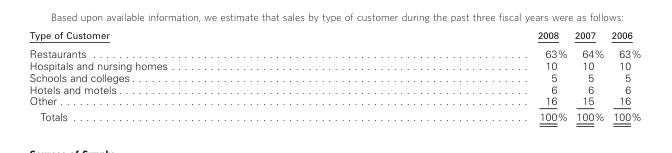table: (28, 29, 640, 121)
table column: (28, 29, 351, 121), (351, 29, 570, 121), (570, 29, 607, 121), (607, 29, 640, 121)
table column header: (28, 29, 640, 43)
table row: (28, 43, 640, 58), (28, 29, 640, 43), (28, 94, 640, 108), (28, 108, 640, 121), (28, 58, 640, 70), (28, 70, 640, 82), (28, 82, 640, 94)
